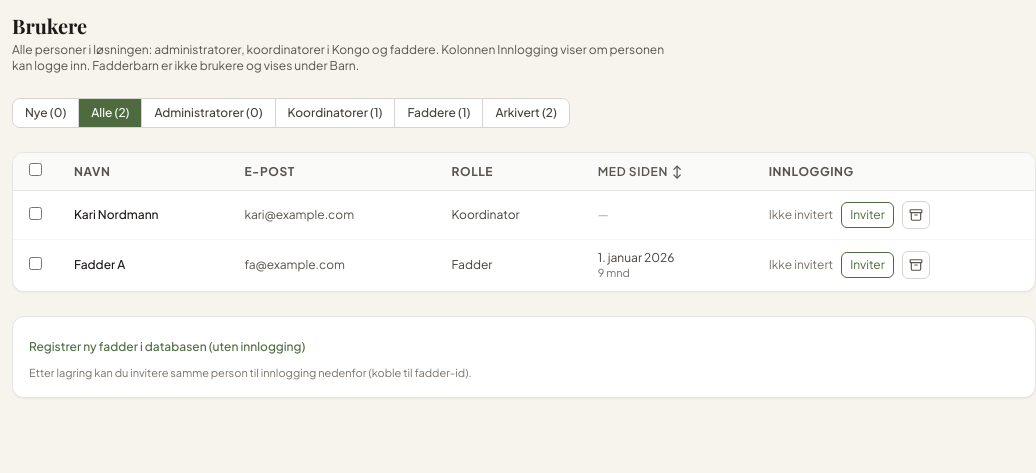
brukerlisten: arkiv › velger to rader og arkiverer valgte etter bekreftelse
This screenshot has width=1036, height=473.
Click the checkbox named "Velg Kari Nordmann".
click(36, 213)  # box [29,206,42,220]
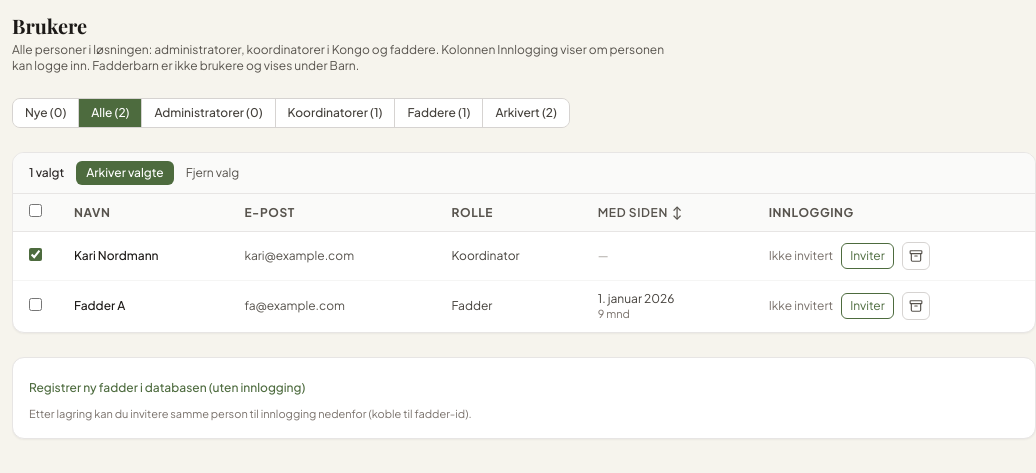
Click the checkbox named "Velg Fadder A".
click(36, 304)  # box [29,298,42,311]
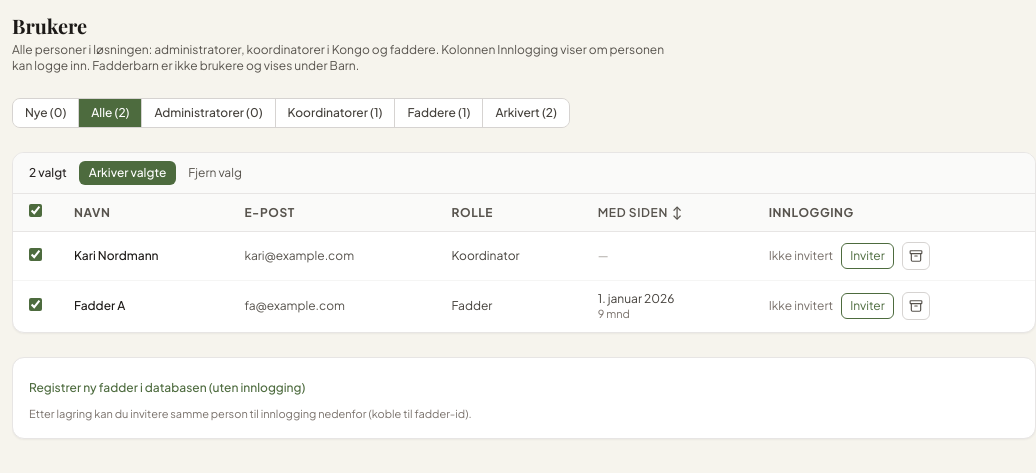
Expected: the text "2 valgt" is shown, [29,165,67,181]
Click the button "Arkiver valgte".
click(128, 173)  # box [79,161,176,185]
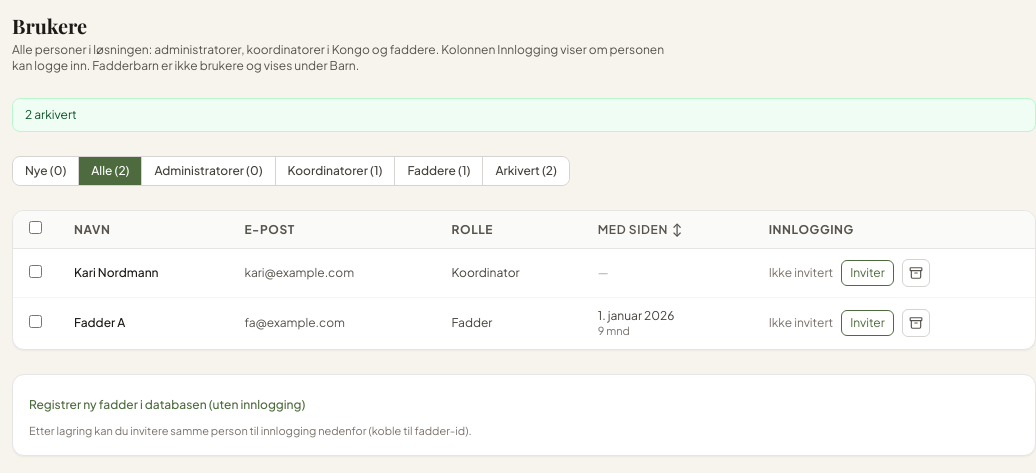
Expected: the text "2 arkivert" is shown, [12,98,1035,132]
Expected: the text "2 valgt" is gone
